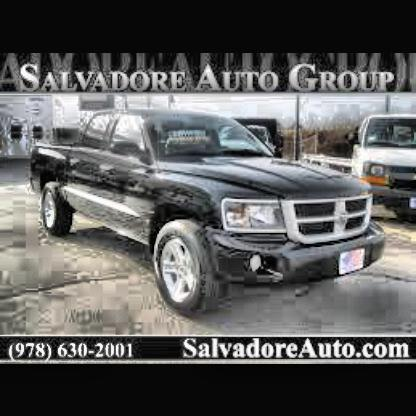Dodge Dakota Crew Cab 2010: (33, 106, 387, 314)
